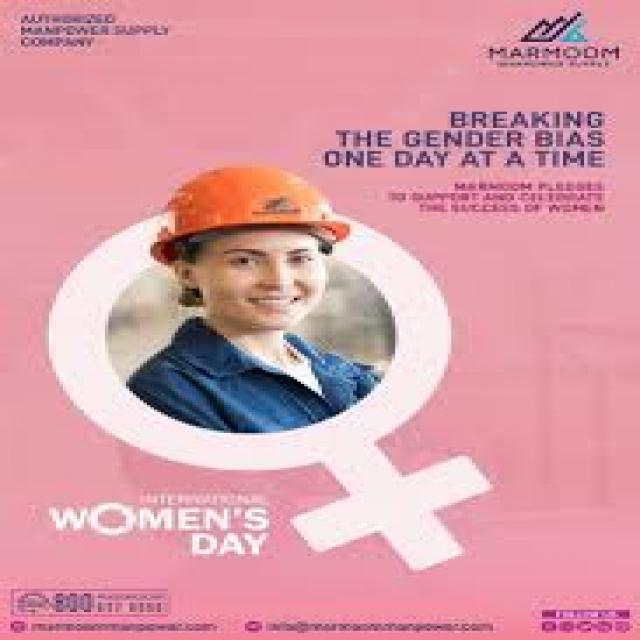safety_helmet: (136, 153, 367, 258)
